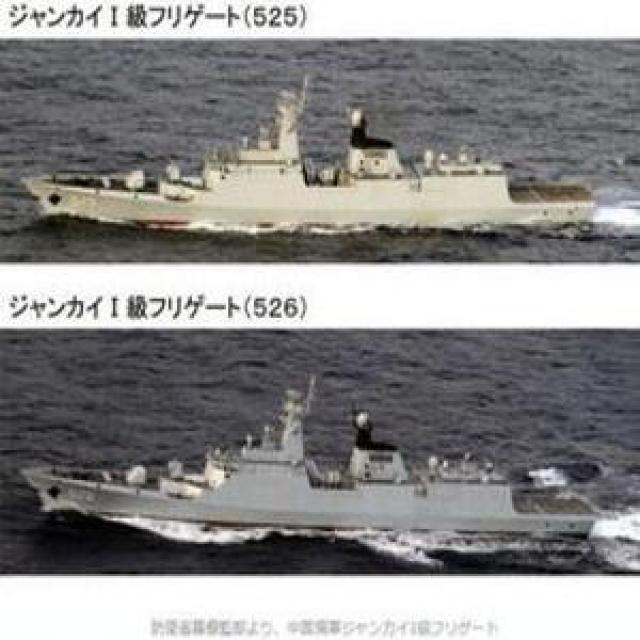navalvessels: (45, 74, 626, 258), (3, 383, 629, 552)
